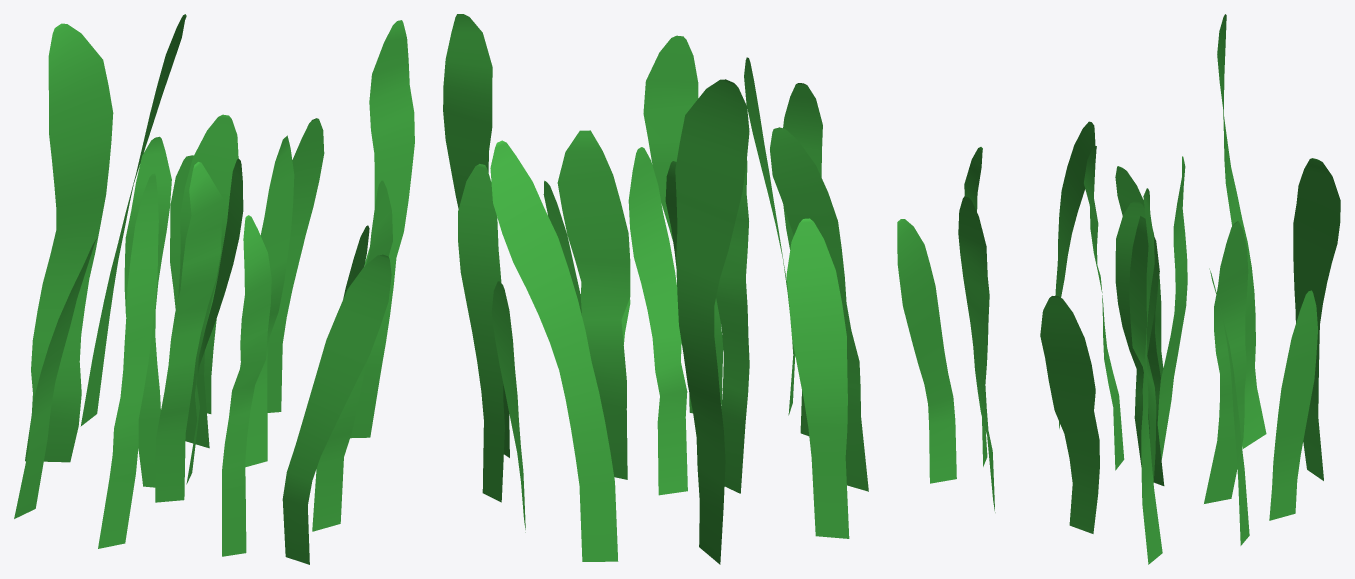
The model's file is coral_seagrass_C_round_light.fbx.
3 renders of one model, left to right at view 1: azimuth 30°, elevation 25°; view 2: azimuth 150°, elevation 25°; view 3: azimuth 270°, elevation 25°, orthographic. The views are drawn at different scales.
Parts seen in each view (by area): view 1: coral_seagrass_C_round_light; view 2: coral_seagrass_C_round_light; view 3: coral_seagrass_C_round_light.
Part boxes in pixels (x1,y1,x2,y2): coral_seagrass_C_round_light: (14, 14, 414, 564); coral_seagrass_C_round_light: (443, 14, 868, 564); coral_seagrass_C_round_light: (897, 14, 1340, 564).
Bounding box in the file's own units: 76.28 × 82.67 × 78.05.
